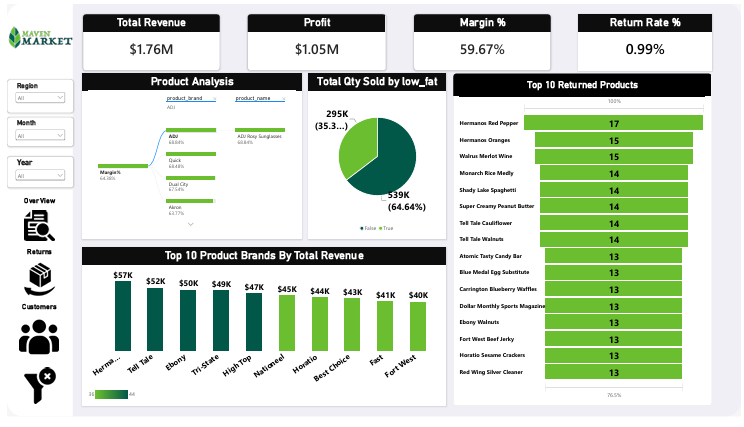

Layout of this report page (visuals, bound fields, positions):
{"tool":"powerbi","page":{"name":"Products","canvas":[1920,1080],"ordinal":2},"visuals":[{"type":"card","title":"Total Revenue","fields":{"Values":["_Measure.Total Revenue"]},"box":[197.7,25.5,359.3,148.8],"z":0},{"type":"card","title":"Profit","fields":{"Values":["_Measure.Profit"]},"box":[628.6,25.5,363.5,148.8],"z":1000},{"type":"card","title":"Margin %","fields":{"Values":["_Measure.Margin%"]},"box":[1063.7,25.5,359.3,148.8],"z":2000},{"type":"card","title":"Return Rate %","fields":{"Values":["_Measure.Return Rate %"]},"box":[1494.6,25.5,350.8,148.8],"z":3000},{"type":"image","box":[0,0,174.3,174.3],"z":4000},{"type":"pieChart","fields":{"Category":["DimProducts.low_fat"],"Y":["_Measure.Total Qty Sold"]},"box":[788.7,181.4,360.3,433.4],"z":5000},{"type":"columnChart","title":"Top 10 Product Brands By Total Revenue","fields":{"Category":["DimProducts.product_brand"],"Y":["_Measure.Total Revenue"]},"box":[196.5,637.5,952.4,413.2],"z":6000},{"type":"decompositionTreeVisual","title":"Product Analysis","fields":{"Analyze":["_Measure.Margin%"],"ExplainBy":["DimProducts.product_brand","DimProducts.product_name"]},"box":[196.5,181.4,574.5,433.4],"z":7000},{"type":"funnel","title":"Top 10 Returned Products","fields":{"Category":["DimProducts.product_name"],"Y":["_Measure.Total QTY Returned"]},"box":[1166.6,181.4,677.8,869.3],"z":8000},{"type":"slicer","fields":{"Values":["DimCalendar.Month"]},"box":[0,294.8,173.9,78.1],"z":10000},{"type":"slicer","fields":{"Values":["DimCalendar.Year"]},"box":[0,398.1,173.9,83.1],"z":11000},{"type":"slicer","fields":{"Values":["DimRegions.sales_region"]},"box":[0,196.5,173.9,88.2],"z":11001},{"type":"image","title":"Returns","box":[23.4,635.7,123.3,131.8],"z":11002},{"type":"image","title":"Over View","box":[23.4,503.9,123.3,116.9],"z":11003},{"type":"image","title":"Customers","box":[23.4,782.4,121.2,140.3],"z":11004},{"type":"image","box":[19.1,952.4,133.9,93.5],"z":11005}]}

Visuals, with their boxes in screenshot pixels (x1, y1, x2, y2), scaled from the page's 1920x1080 canvas onto the 744x427 screenshot:
"Total Revenue" card: <region>77, 10, 216, 69</region>
"Profit" card: <region>244, 10, 384, 69</region>
"Margin %" card: <region>412, 10, 551, 69</region>
"Return Rate %" card: <region>579, 10, 715, 69</region>
image: <region>0, 0, 68, 69</region>
pieChart - DimProducts.low_fat x _Measure.Total Qty Sold: <region>306, 72, 445, 243</region>
"Top 10 Product Brands By Total Revenue" columnChart: <region>76, 252, 445, 415</region>
"Product Analysis" decompositionTreeVisual: <region>76, 72, 299, 243</region>
"Top 10 Returned Products" funnel: <region>452, 72, 715, 415</region>
slicer - DimCalendar.Month: <region>0, 117, 67, 147</region>
slicer - DimCalendar.Year: <region>0, 157, 67, 190</region>
slicer - DimRegions.sales_region: <region>0, 78, 67, 113</region>
"Returns" image: <region>9, 251, 57, 303</region>
"Over View" image: <region>9, 199, 57, 245</region>
"Customers" image: <region>9, 309, 56, 365</region>
image: <region>7, 377, 59, 414</region>
